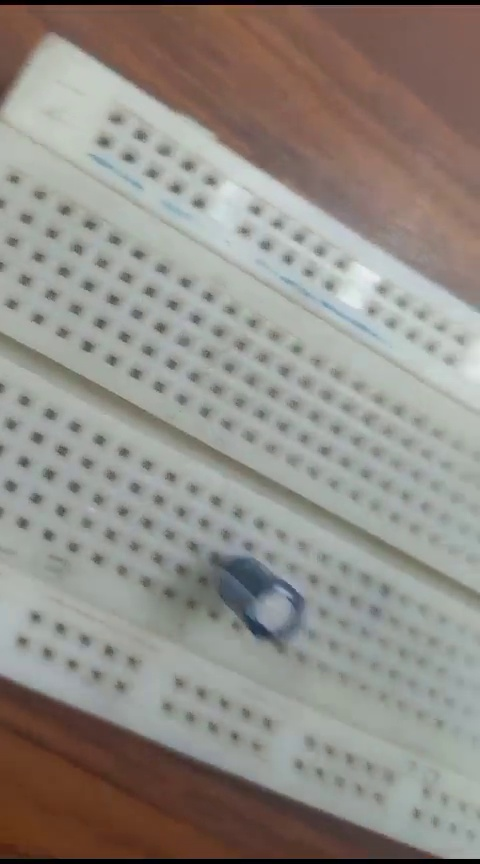capacitor: (228, 536, 311, 651)
